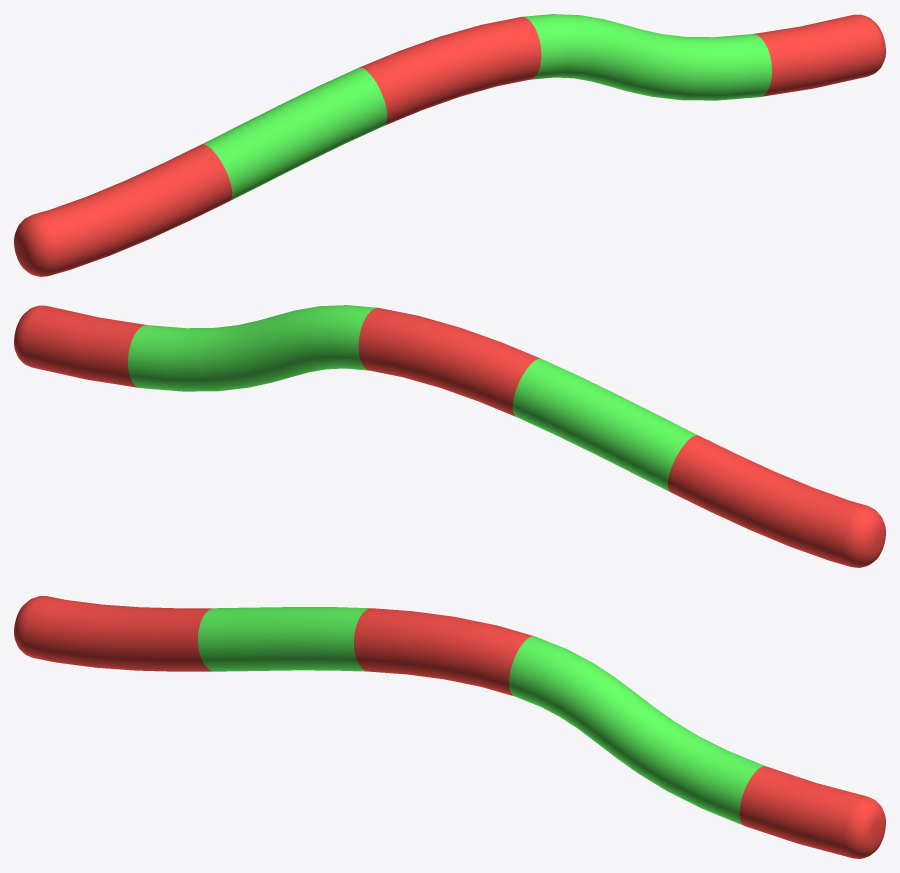
Rendered from GUMMY_WORM.fbx.
3 views of the same model, one above another, from view 1: azimuth 30°, elevation 25°; view 2: azimuth 150°, elevation 25°; view 3: azimuth 330°, elevation 25° (orthographic).
Visible parts, largest first — view 1: BezierCurve; view 2: BezierCurve; view 3: BezierCurve.
Part boxes in pixels (x1,y1,x2,y2): BezierCurve: (14, 14, 885, 276); BezierCurve: (14, 305, 885, 567); BezierCurve: (14, 596, 885, 858).
Size of the model in its own units: 576 by 88.98 by 37.02.
